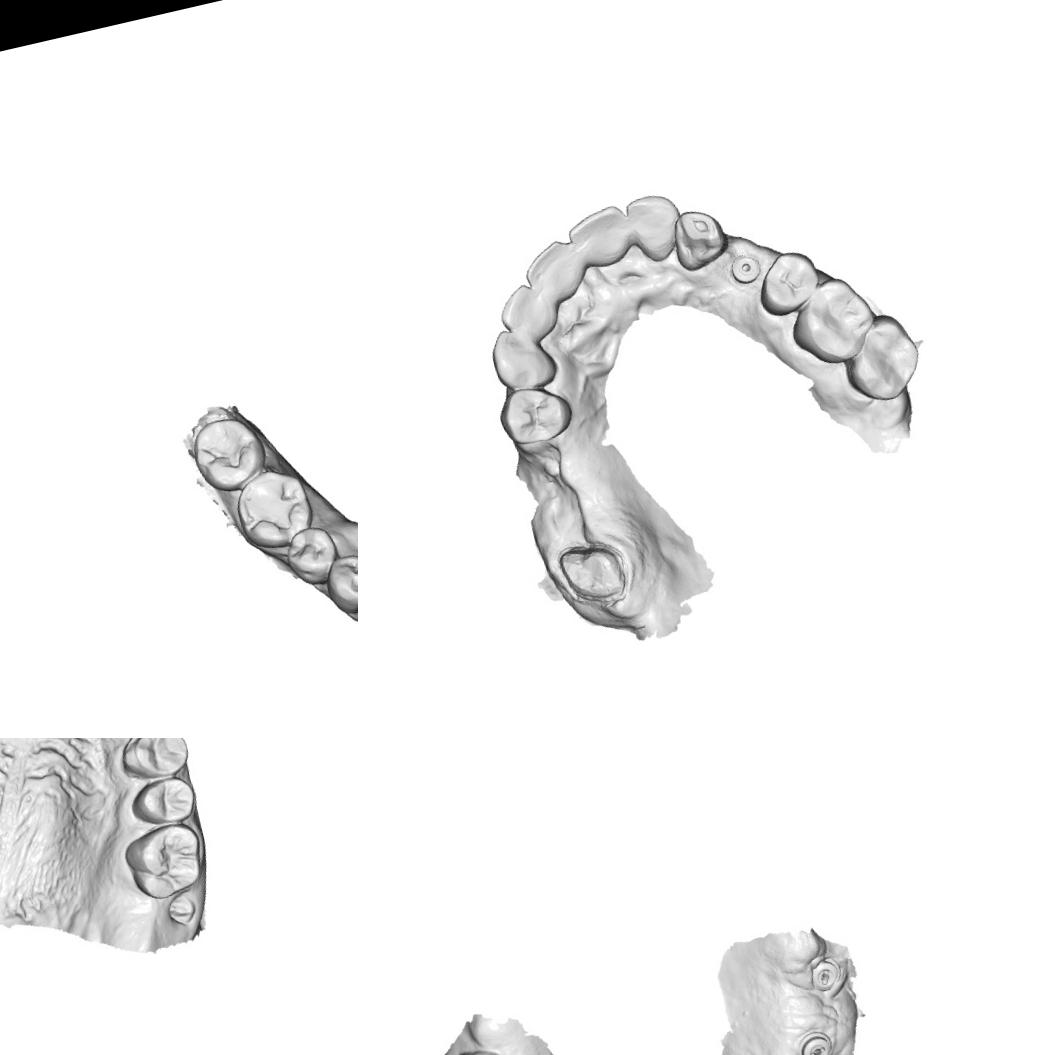canine: (486, 318, 562, 396), (665, 203, 732, 275)
crown: (551, 534, 632, 612)
implant: (726, 249, 766, 288)
implant_minus: (804, 954, 846, 996), (792, 1027, 838, 1055)
incisor: (562, 200, 638, 275), (622, 188, 690, 268), (492, 277, 562, 346), (518, 236, 582, 309)
molar: (780, 268, 886, 374), (834, 306, 930, 410), (228, 463, 321, 560), (184, 410, 274, 502), (118, 818, 212, 906)
premolar: (492, 379, 579, 451), (749, 245, 827, 321), (279, 520, 347, 593), (126, 772, 202, 832), (114, 738, 193, 785), (318, 547, 358, 620)
